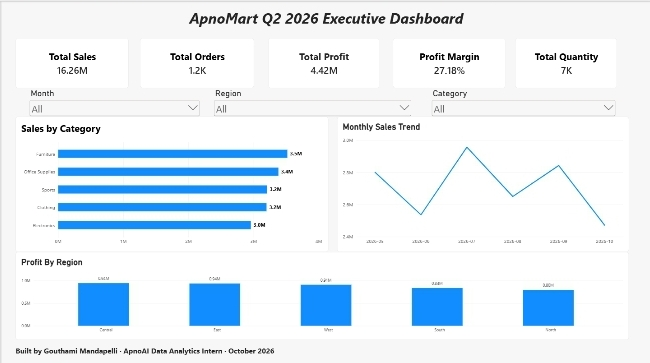

The dashboard page shown, as its layout file describes it:
{"tool":"powerbi","page":{"name":"Page 1","canvas":[1920,1080],"ordinal":0},"visuals":[{"type":"cardVisual","fields":{"Data":["Sum(apnomart-sales-data.Sales)"]},"box":[42,108,334,148],"z":0},{"type":"cardVisual","fields":{"Data":["Sum(apnomart-sales-data.Profit)"]},"box":[788,108,328,148],"z":1000},{"type":"cardVisual","fields":{"Data":["apnomart-sales-data.Profit Margin %"]},"box":[1156,108,332,148],"z":2000},{"type":"barChart","title":"Sales by Category","fields":{"Category":["apnomart-sales-data.Category"],"Y":["Sum(apnomart-sales-data.Sales)"]},"box":[42,340,924,400],"z":3000},{"type":"cardVisual","fields":{"Data":["Sum(apnomart-sales-data.Quantity)"]},"box":[1518,108,300,148],"z":4000},{"type":"textbox","box":[0,0,1920,108],"z":5000},{"type":"cardVisual","fields":{"Data":["CountNonNull(apnomart-sales-data.Order_ID)"]},"box":[410,108,336,148],"z":6000},{"type":"slicer","fields":{"Values":["apnomart-sales-data.Month"]},"box":[78,256,512,106],"z":7000},{"type":"slicer","fields":{"Values":["apnomart-sales-data.Region"]},"box":[624,256,592,84],"z":8000},{"type":"slicer","fields":{"Values":["apnomart-sales-data.Category"]},"box":[1266,256,552,84],"z":9000},{"type":"lineChart","title":"Monthly Sales Trend","fields":{"Category":["apnomart-sales-data.Month"],"Y":["Sum(apnomart-sales-data.Sales)"]},"box":[992,340,862,400],"z":10000},{"type":"columnChart","title":"Profit By Region","fields":{"Category":["apnomart-sales-data.Region"],"Y":["Sum(apnomart-sales-data.Profit)"]},"box":[42,740,1812,260],"z":11000},{"type":"textbox","box":[42,1016,1878,64],"z":11001}]}

Visuals, with their boxes in screenshot pixels (x1, y1, x2, y2), scaled from the page's 1920x1080 canvas onto the 650x363 screenshot:
cardVisual - Sum(apnomart-sales-data.Sales): [left=14, top=36, right=127, bottom=86]
cardVisual - Sum(apnomart-sales-data.Profit): [left=267, top=36, right=378, bottom=86]
cardVisual - apnomart-sales-data.Profit Margin %: [left=391, top=36, right=504, bottom=86]
"Sales by Category" barChart: [left=14, top=114, right=327, bottom=249]
cardVisual - Sum(apnomart-sales-data.Quantity): [left=514, top=36, right=615, bottom=86]
textbox: [left=0, top=0, right=649, bottom=36]
cardVisual - CountNonNull(apnomart-sales-data.Order_ID): [left=139, top=36, right=253, bottom=86]
slicer - apnomart-sales-data.Month: [left=26, top=86, right=200, bottom=122]
slicer - apnomart-sales-data.Region: [left=211, top=86, right=412, bottom=114]
slicer - apnomart-sales-data.Category: [left=429, top=86, right=615, bottom=114]
"Monthly Sales Trend" lineChart: [left=336, top=114, right=628, bottom=249]
"Profit By Region" columnChart: [left=14, top=249, right=628, bottom=336]
textbox: [left=14, top=341, right=649, bottom=362]
